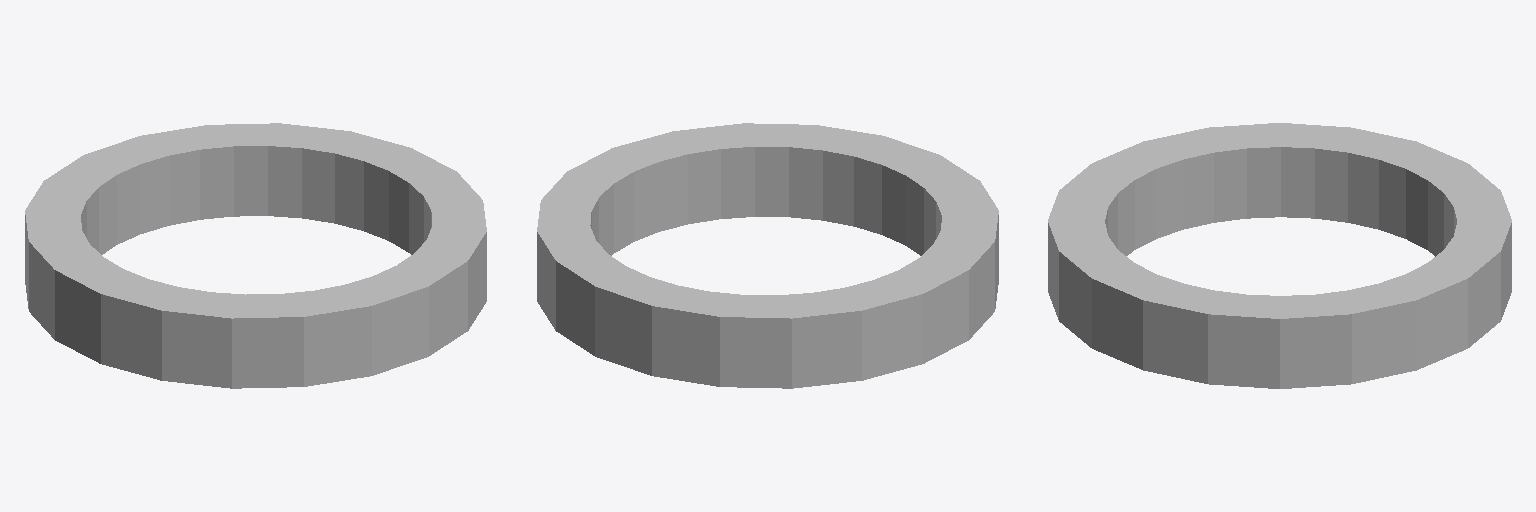
File: CementGrower03.obj
3 views of the same model, side by side, from view 1: azimuth 30°, elevation 25°; view 2: azimuth 150°, elevation 25°; view 3: azimuth 270°, elevation 25° (orthographic).
Visible parts, largest first — view 1: Donut_Cylinder_measurer.001_Scene.001; view 2: Donut_Cylinder_measurer.001_Scene.001; view 3: Donut_Cylinder_measurer.001_Scene.001.
Boxes of the visible parts, box(x1,y1,x2,y2) form: Donut_Cylinder_measurer.001_Scene.001: box(25, 123, 486, 388); Donut_Cylinder_measurer.001_Scene.001: box(537, 123, 998, 388); Donut_Cylinder_measurer.001_Scene.001: box(1048, 123, 1511, 388).
Bounding box in the file's own units: 1.2 × 0.2 × 1.2.